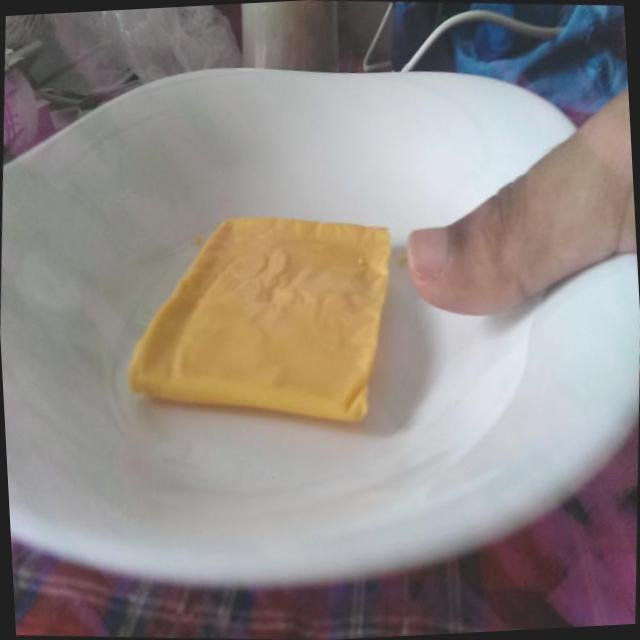Cheese: (105, 194, 407, 456)
Finger: (390, 133, 556, 334)
